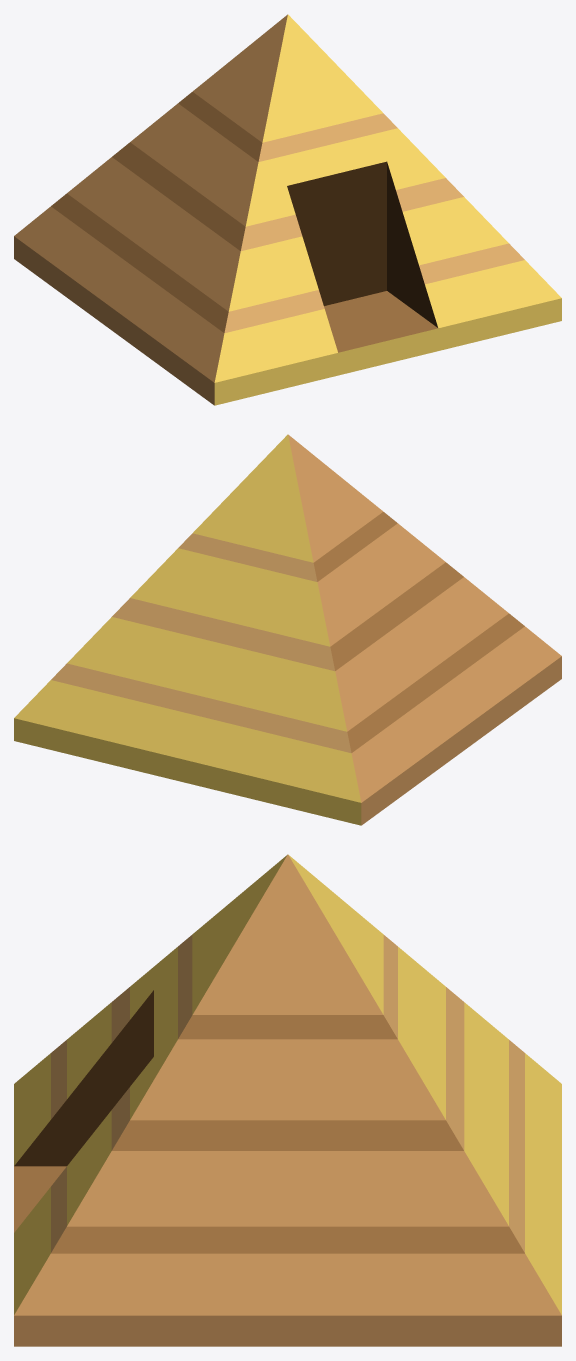
3 renders of one model, top to bottom at view 1: azimuth 30°, elevation 25°; view 2: azimuth 150°, elevation 25°; view 3: azimuth 270°, elevation 25°, orthographic. The views are drawn at different scales.
Parts seen in each view (by area): view 1: pyramid, entrance; view 2: pyramid; view 3: pyramid, entrance.
Part boxes in pixels (x1,y1,x2,y2): pyramid: (14, 14, 561, 405); entrance: (287, 161, 437, 352); pyramid: (14, 434, 561, 825); pyramid: (14, 854, 561, 1346); entrance: (14, 990, 153, 1232).
Bounding box in the file's own units: 288 × 218 × 288.
Materials: 1 (1 with a texture image).
